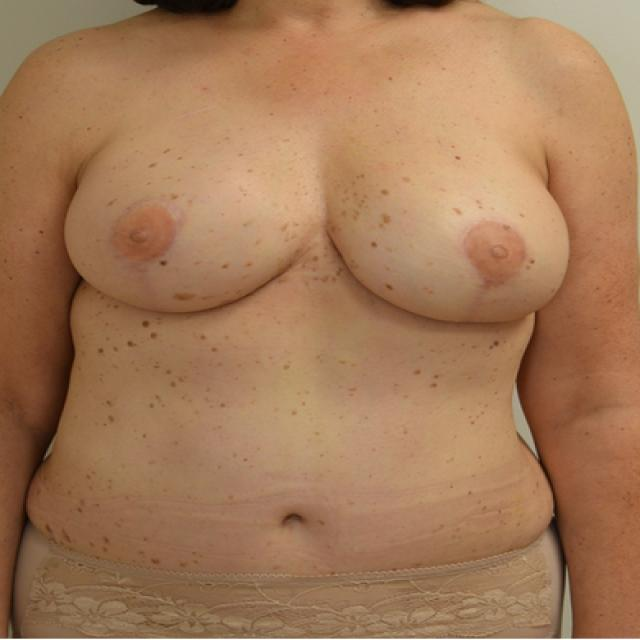Seno herido: (330, 130, 581, 340), (55, 131, 317, 330)
